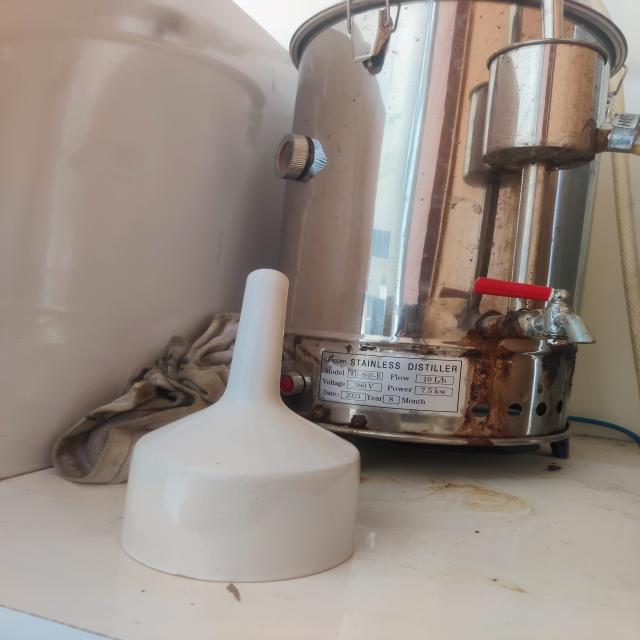Buchner_Funnel: (96, 235, 403, 600)
